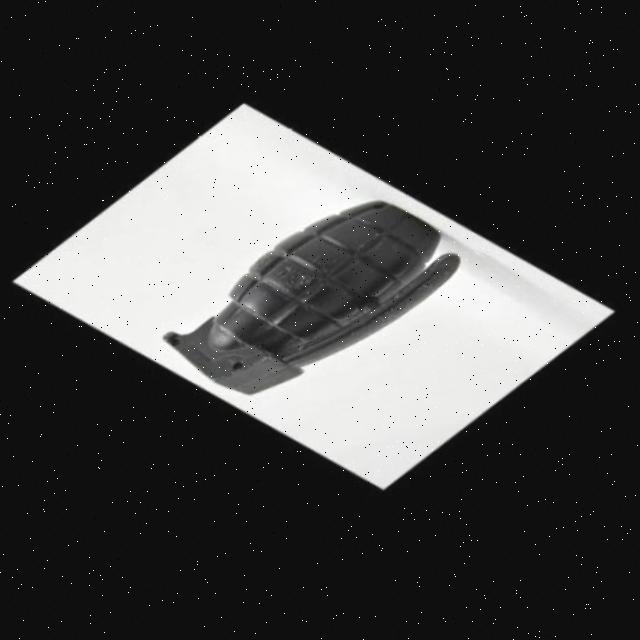grenade: (135, 164, 472, 432)
